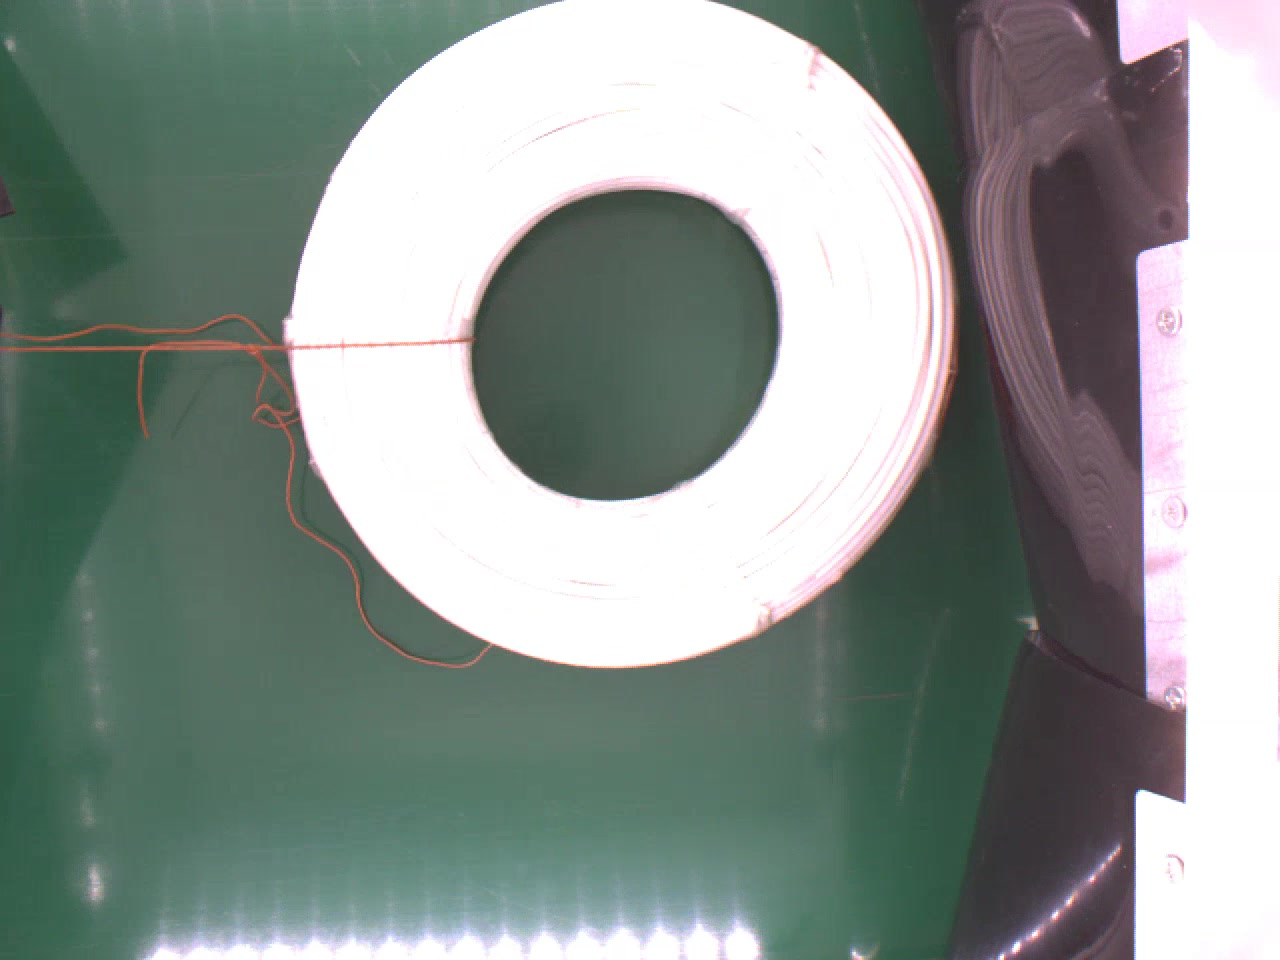white: (282, 0, 964, 672)
